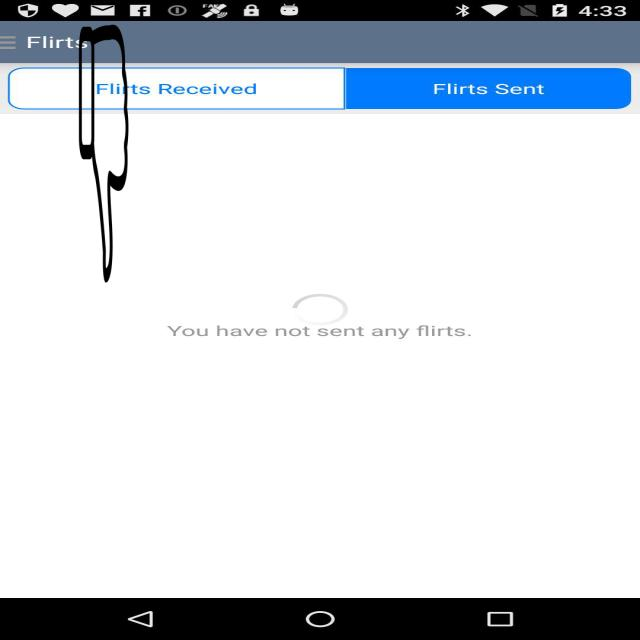obstruction: (78, 24, 129, 282)
